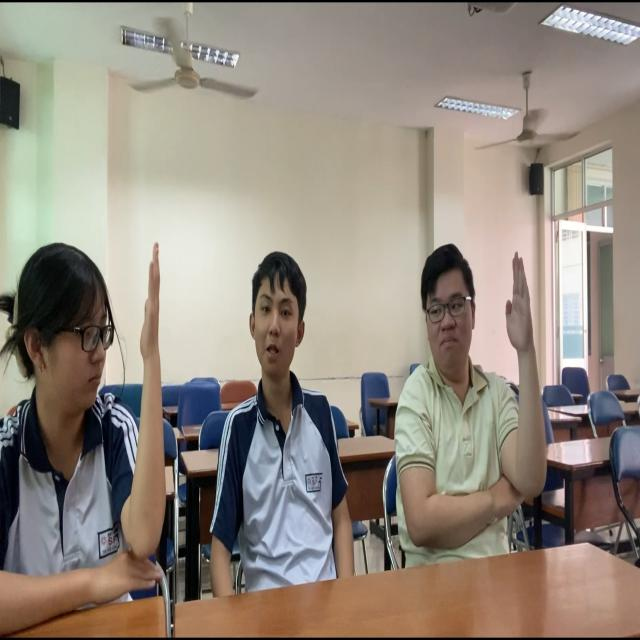raise_hand: (1, 230, 177, 622), (390, 242, 551, 566)
